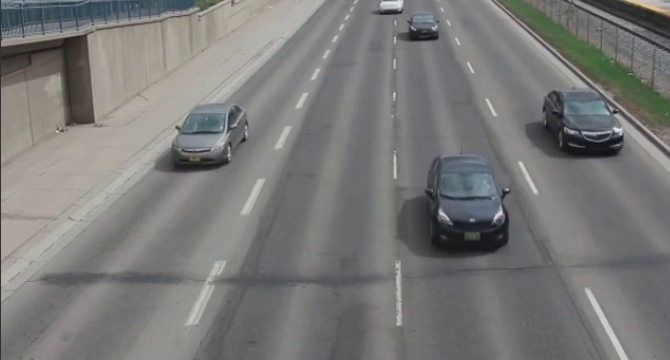car: (426, 150, 511, 257), (540, 85, 630, 161), (170, 103, 250, 170), (405, 13, 443, 44), (377, 1, 406, 15)
